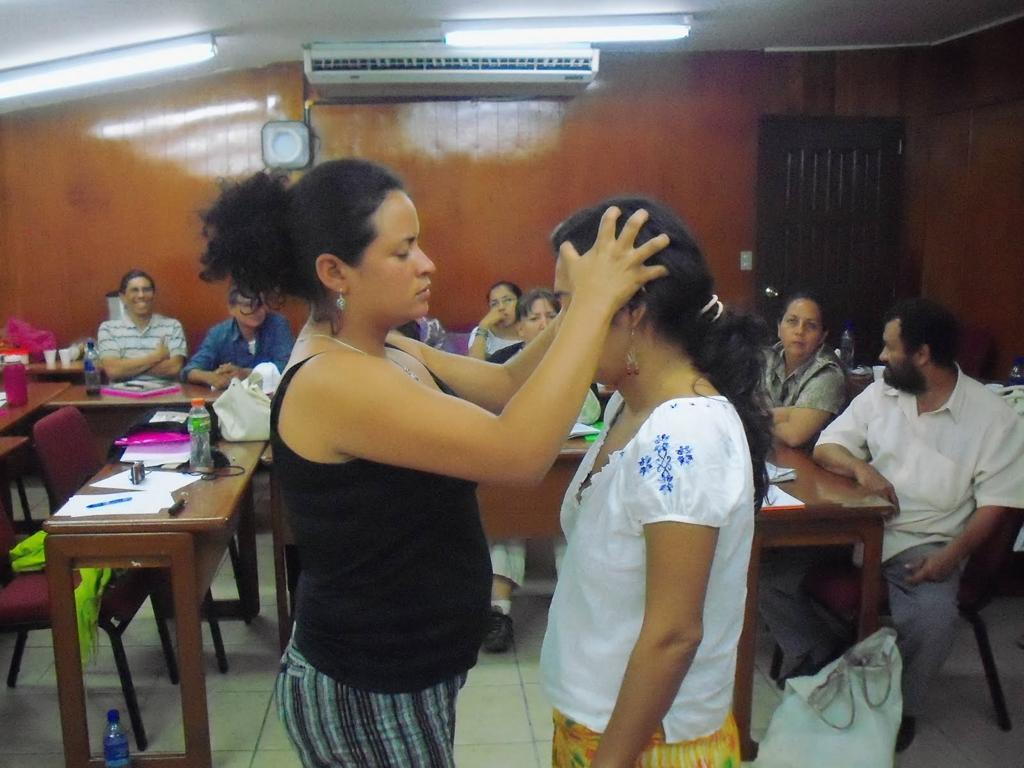face: (345, 196, 435, 319), (553, 256, 627, 391), (879, 320, 919, 388), (780, 304, 819, 355), (524, 299, 558, 347), (235, 291, 264, 326), (490, 286, 515, 326), (126, 279, 151, 313)
